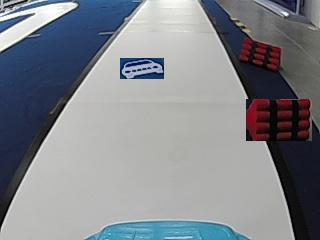bomb: (237, 38, 282, 70)
